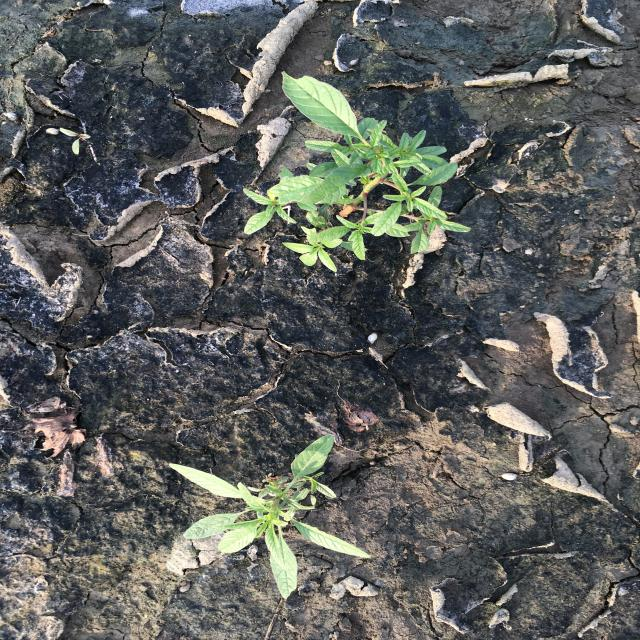Waterhemp: (242, 70, 476, 274), (167, 434, 374, 602)
